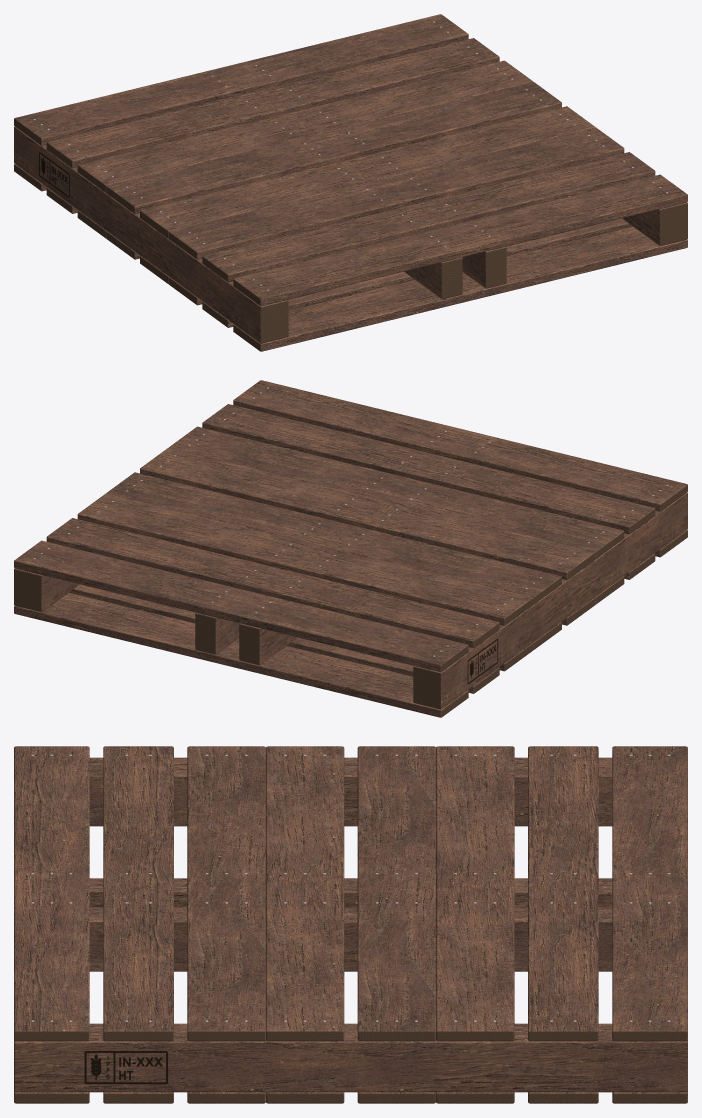
The model's file is hw06-hardwood-pallet-1200x1200-full-base.glb.
3 views of the same model, one above another, from view 1: azimuth 30°, elevation 25°; view 2: azimuth 150°, elevation 25°; view 3: azimuth 270°, elevation 25° (orthographic). The views are drawn at different scales.
Parts seen in each view (by area): view 1: hw06-hardwood-pallet-1200x1200-full-base; view 2: hw06-hardwood-pallet-1200x1200-full-base; view 3: hw06-hardwood-pallet-1200x1200-full-base.
Boxes of the visible parts, x1=… form: hw06-hardwood-pallet-1200x1200-full-base: x1=14, y1=14, x2=687, y2=351; hw06-hardwood-pallet-1200x1200-full-base: x1=14, y1=380, x2=687, y2=717; hw06-hardwood-pallet-1200x1200-full-base: x1=14, y1=746, x2=687, y2=1103.
Bounding box in the file's own units: 1.2 × 0.1449 × 1.2.
Materials: 4 (3 with a texture image).
